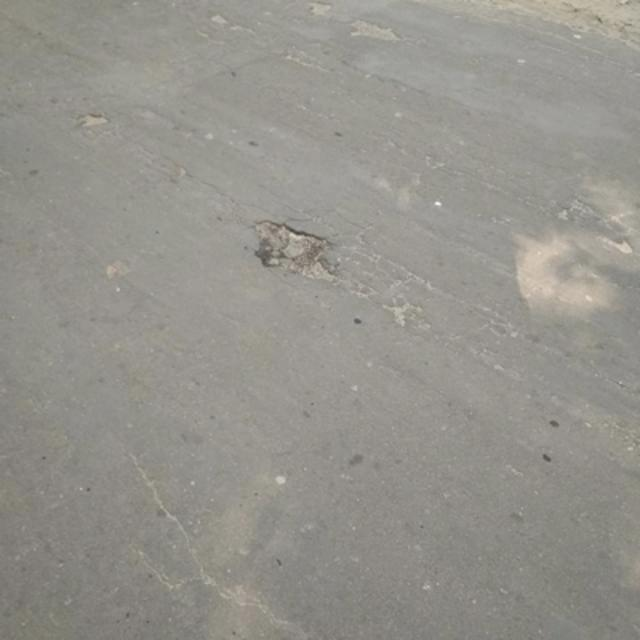Lubang: (249, 224, 346, 282)
